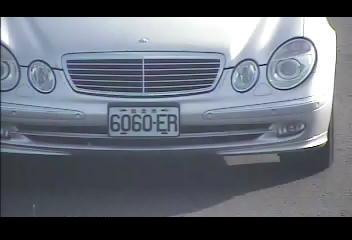plate: (106, 105, 181, 139)
